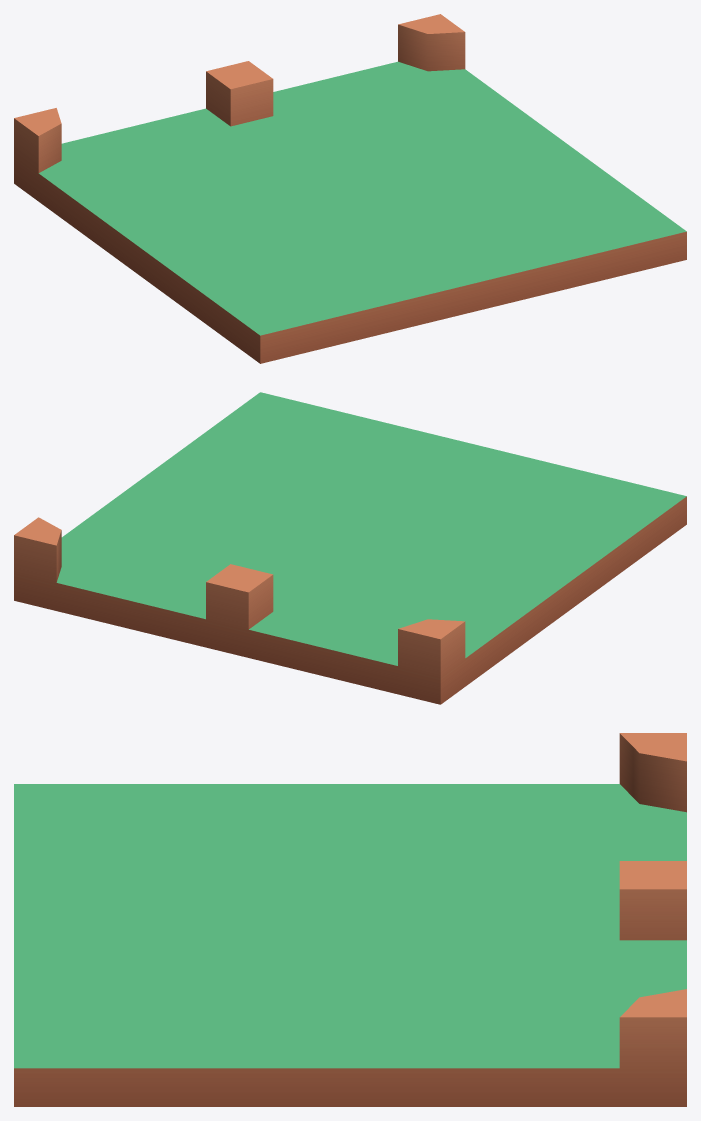
Rendered from split-walls-to-open.glb.
The picture shows the model from 3 angles, top to bottom: view 1: azimuth 30°, elevation 25°; view 2: azimuth 150°, elevation 25°; view 3: azimuth 270°, elevation 25°; orthographic projection. The views are drawn at different scales.
Parts seen in each view (by area): view 1: split-walls-to-open; view 2: split-walls-to-open; view 3: split-walls-to-open.
Part boxes in pixels (x1,y1,x2,y2): split-walls-to-open: (14,14,686,363); split-walls-to-open: (14,392,686,704); split-walls-to-open: (14,733,686,1106).
Bounding box in the file's own units: 0.9999 × 0.1467 × 0.9999.
1 material, 1 textured.
